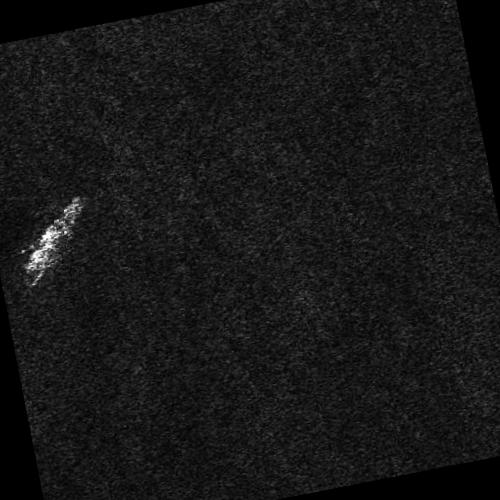ship: (25, 195, 86, 274)
